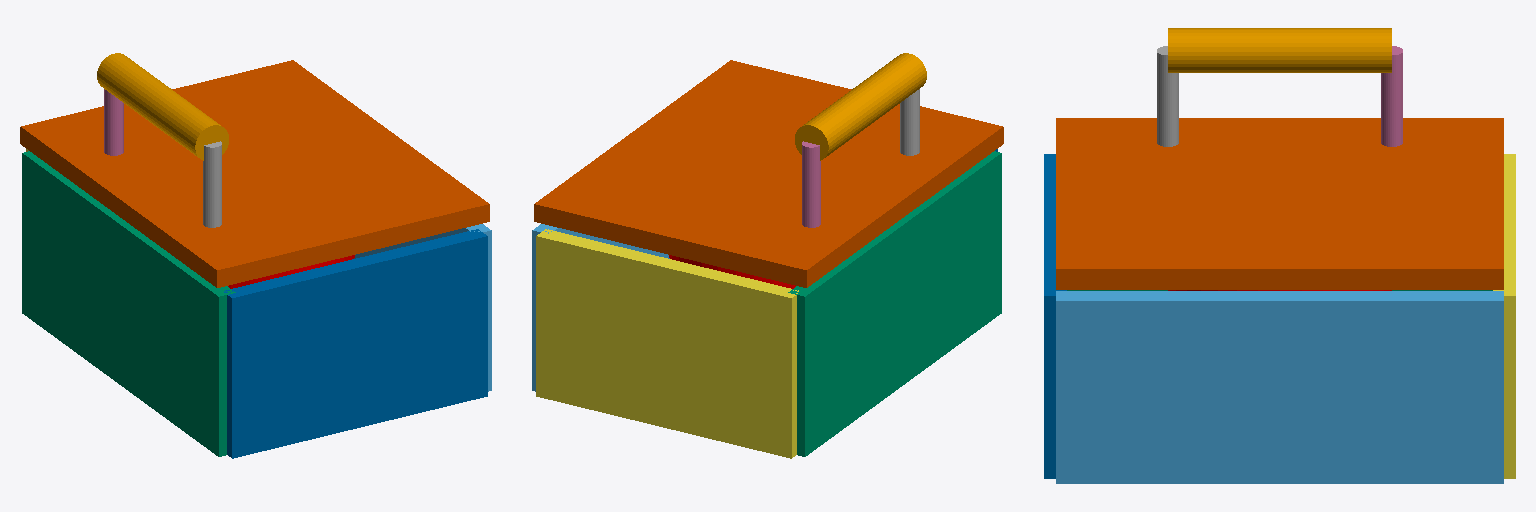
robot.urdf — skew_box:
<?xml version="1.0"?>

<robot name="skew_box">
    <!-- control -->
    <link name="base_link">
        <inertial>
            <mass value="0"/>
            <inertia ixx="0" ixy="0" ixz="0"
                     iyx="0" iyy="0" iyz="0"
                     izx="0" izy="0" izz="0"/>
        </inertial>
    </link>

    <link name="box1">
        <inertial>
            <mass value="0"/>
            <inertia ixx="0" ixy="0" ixz="0" iyy="0" iyz="0" izz="0"/>
        </inertial>
        <visual>
            <origin xyz="0 0 0" rpy="0 0 0"/>
            <geometry>
                <box size="0.01 0.2 0.09"/>
            </geometry>
        </visual>
        <collision>
            <origin xyz="0 0 0" rpy="0 0 0"/>
            <geometry>
                <box size="0.01 0.2 0.09"/>
            </geometry>
        </collision>
    </link>
    <joint name="base_box1" type="fixed">
        <origin rpy="0 0 0" xyz="0.075 0 0.045"/>
        <parent link="base_link"/>
        <child link="box1"/>
        <axis xyz="0 0 0"/>
    </joint>

    <link name="box2">
        <inertial>
            <mass value="0"/>
            <inertia ixx="0" ixy="0" ixz="0" iyy="0" iyz="0" izz="0"/>
        </inertial>
        <visual>
            <origin xyz="0 0 0" rpy="0 0 0"/>
            <geometry>
                <box size="0.01 0.2 0.09"/>
            </geometry>
        </visual>
        <collision>
            <origin xyz="0 0 0" rpy="0 0 0"/>
            <geometry>
                <box size="0.01 0.2 0.09"/>
            </geometry>
        </collision>
    </link>
    <joint name="base_box2" type="fixed">
        <origin rpy="0 0 0" xyz="-0.075 0 0.045"/>
        <parent link="base_link"/>
        <child link="box2"/>
        <axis xyz="0 0 0"/>
    </joint>

    <link name="box3">
        <inertial>
            <origin xyz="0 0 0" rpy="0 0 0"/>
            <mass value="1"/>
            <inertia ixx="0" ixy="0" ixz="0" iyy="0" iyz="0" izz="0"/>
        </inertial>

        <visual>
            <origin xyz="0 0 0" rpy="0 0 0"/>
            <geometry>
                <box size="0.15 0.01 0.09"/>
            </geometry>
        </visual>

        <collision>
            <origin xyz="0 0 0" rpy="0 0 0"/>
            <geometry>
                <box size="0.15 0.01 0.09"/>
            </geometry>
        </collision>
    </link>
    <joint name="base_box3" type="fixed">
        <origin rpy="0 0 0" xyz="0 0.1 0.045"/>
        <parent link="base_link"/>
        <child link="box3"/>
        <axis xyz="0 0 0"/>
    </joint>

    <link name="box4">
        <inertial>
            <origin xyz="0 0 0" rpy="0 0 0"/>
            <mass value="1"/>
            <inertia ixx="0" ixy="0" ixz="0" iyy="0" iyz="0" izz="0"/>
        </inertial>

        <visual>
            <origin xyz="0 0 0" rpy="0 0 0"/>
            <geometry>
                <box size="0.15 0.01 0.09"/>
            </geometry>
        </visual>

        <collision>
            <origin xyz="0 0 0" rpy="0 0 0"/>
            <geometry>
                <box size="0.15 0.01 0.09"/>
            </geometry>
        </collision>
    </link>
    <joint name="base_box4" type="fixed">
        <origin rpy="0 0 0" xyz="0 -0.1 0.045"/>
        <parent link="base_link"/>
        <child link="box4"/>
        <axis xyz="0 0 0"/>
    </joint>

    <link name="door">
        <inertial>
            <mass value="0.1"/>
<!--            <origin xyz="0.05 0.05 0.05" rpy="0 0 0" />-->
            <inertia ixx="0.5" ixy="0.5" ixz="0.5" iyy="0.5" iyz="0.5" izz="0.5"/>
        </inertial>

        <visual>
            <origin xyz="-0.076 0 0" rpy="0 0 0"/>
            <geometry>
                <box size="0.16 0.2 0.01"/>
            </geometry>
        </visual>

        <collision>
            <origin xyz="-0.076 0 0" rpy="0 0 0"/>
            <geometry>
                <box size="0.16 0.2 0.01"/>
            </geometry>
        </collision>
    </link>
    <joint name="base_door" type="revolute">
        <origin xyz="0.075 0 0.1" rpy="0 0 0"/>
        <parent link="base_link"/>
        <child link="door"/>
        <axis xyz="0 1 0"/>
        <limit effort="0" lower="0" upper="2" velocity="0"/>
    </joint>

    <link name="h1">
        <inertial>
            <mass value="0.05"/>
            <inertia ixx="0" ixy="0" ixz="0" iyy="0" iyz="0" izz="0"/>
        </inertial>
        <visual>
            <origin xyz="0 0 0" rpy="0 0 0"/>
            <geometry>
                <cylinder radius="0.005" length="0.05"/>
            </geometry>
        </visual>
        <collision>
            <origin xyz="0 0 0" rpy="0 0 0"/>
            <geometry>
                <cylinder radius="0.005" length="0.05"/>
            </geometry>
        </collision>
    </link>
    <joint name="door_h1" type="fixed">
        <origin xyz="-0.13 0.05 0.025" rpy="0 0 0"/>
        <parent link="door"/>
        <child link="h1"/>
        <axis xyz="0 0 0"/>
    </joint>

    <link name="h2">
        <inertial>
            <mass value="0.05"/>
            <inertia ixx="0" ixy="0" ixz="0" iyy="0" iyz="0" izz="0"/>
        </inertial>
        <visual>
            <origin xyz="0 0 0" rpy="0 0 0"/>
            <geometry>
                <cylinder radius="0.005" length="0.05"/>
            </geometry>
        </visual>
        <collision>
            <origin xyz="0 0 0" rpy="0 0 0"/>
            <geometry>
                <cylinder radius="0.005" length="0.05"/>
            </geometry>
        </collision>
    </link>
    <joint name="door_h2" type="fixed">
        <origin xyz="-0.13 -0.05 0.025" rpy="0 0 0"/>
        <parent link="door"/>
        <child link="h2"/>
        <axis xyz="0 0 0"/>
    </joint>

    <link name="h3">
        <inertial>
            <mass value="0.1"/>
            <inertia ixx="0" ixy="0" ixz="0" iyy="0" iyz="0" izz="0"/>
        </inertial>
        <visual>
            <origin xyz="0 0 0" rpy="0 0 0"/>
            <geometry>
                <cylinder radius="0.01" length="0.1"/>
            </geometry>
        </visual>
        <collision>
            <origin xyz="0 0 0" rpy="0 0 0"/>
            <geometry>
                <cylinder radius="0.01" length="0.1"/>
            </geometry>
            <contact_coefficients mu="1" />
        </collision>
    </link>
    <joint name="h3_h2" type="fixed">
        <origin xyz="0 0.05 0.025" rpy="1.57079632679 0 0"/>
        <parent link="h2"/>
        <child link="h3"/>
        <axis xyz="0 0 0"/>
    </joint>

    <link name="button">
        <inertial>
            <mass value="0.01"/>
            <inertia ixx="0" ixy="0" ixz="0" iyy="0" iyz="0" izz="0"/>
        </inertial>
        <visual>
            <origin xyz="0 0 0" rpy="0 0 0"/>
            <geometry>
                <cylinder radius="0.05" length="0.03"/>
            </geometry>
            <material name="Red">
                <color rgba="1.0 0 0 1.0"/>
            </material>
        </visual>
        <collision>
            <origin xyz="0 0 0" rpy="0 0 0"/>
            <geometry>
                <cylinder radius="0.02" length="0.05"/>
            </geometry>
        </collision>
    </link>
    <joint name="button_base" type="prismatic">
        <origin xyz="0 0 0.07" rpy="0 0 0"/>
        <parent link="base_link"/>
        <child link="button"/>
        <axis xyz="0 0 1"/>
        <limit lower="-0.05" upper="0"/>
    </joint>


</robot>

--- Render facts (derived) ---
Views: 3 orthographic renders of the robot side by side, from view 1: azimuth 30°, elevation 25°; view 2: azimuth 150°, elevation 25°; view 3: azimuth 270°, elevation 25°.
Model skew_box with 10 links and 9 joints (1 revolute, 1 prismatic, 7 fixed), rooted at base_link, posed every joint at zero.
Links seen in each view (by area): view 1: door, box4, box2, h3, h2, box1, h1; view 2: door, box3, box2, h3, h1, box1, h2; view 3: box1, door, h3, box3, box4, h1, h2.
Link boxes in pixels (x1,y1,x2,y2): door: (20,60,489,287); box4: (224,229,487,458); box2: (22,151,235,456); h3: (97,53,228,160); h2: (203,141,221,227); box1: (354,224,491,391); h1: (104,89,123,155); door: (534,60,1003,287); box3: (536,229,798,458); box2: (788,151,1001,456); h3: (795,53,926,160); h1: (802,141,820,227); box1: (532,224,669,391); h2: (900,89,919,155); box1: (1056,291,1503,483); door: (1056,118,1503,289); h3: (1168,28,1391,72); box3: (1493,154,1515,478); box4: (1044,154,1066,478); h1: (1381,46,1402,146); h2: (1157,46,1178,146).
Bounding box of the posed robot: 0.161 × 0.21 × 0.16 m (x, y, z).
Geometry: primitives only (box / cylinder / sphere), no mesh files.